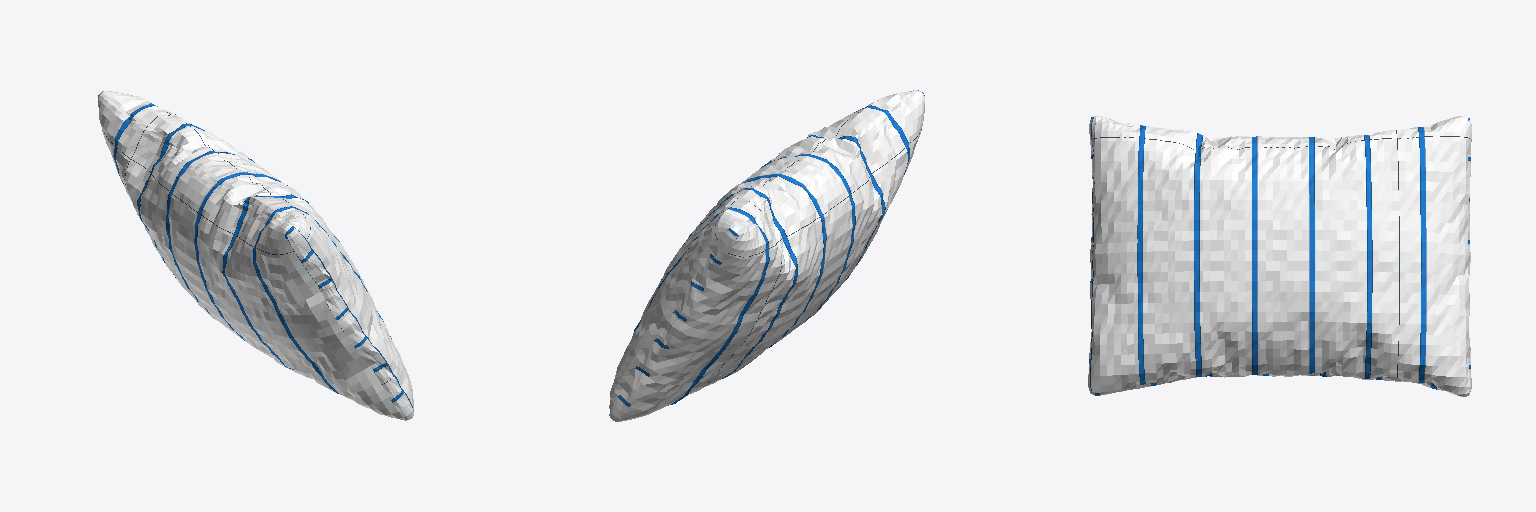
3 views of the same model, side by side, from view 1: azimuth 30°, elevation 25°; view 2: azimuth 150°, elevation 25°; view 3: azimuth 270°, elevation 25° (orthographic).
Visible parts, largest first — view 1: Cubo.014_Cubo.017; view 2: Cubo.014_Cubo.017; view 3: Cubo.014_Cubo.017.
Boxes of the visible parts, x1,y1,x2,y2 form: Cubo.014_Cubo.017: [98, 91, 413, 420]; Cubo.014_Cubo.017: [609, 90, 924, 421]; Cubo.014_Cubo.017: [1088, 115, 1471, 396].
Bounding box in the file's own units: 13.72 × 19.55 × 30.3.
1 materials, 1 textured.